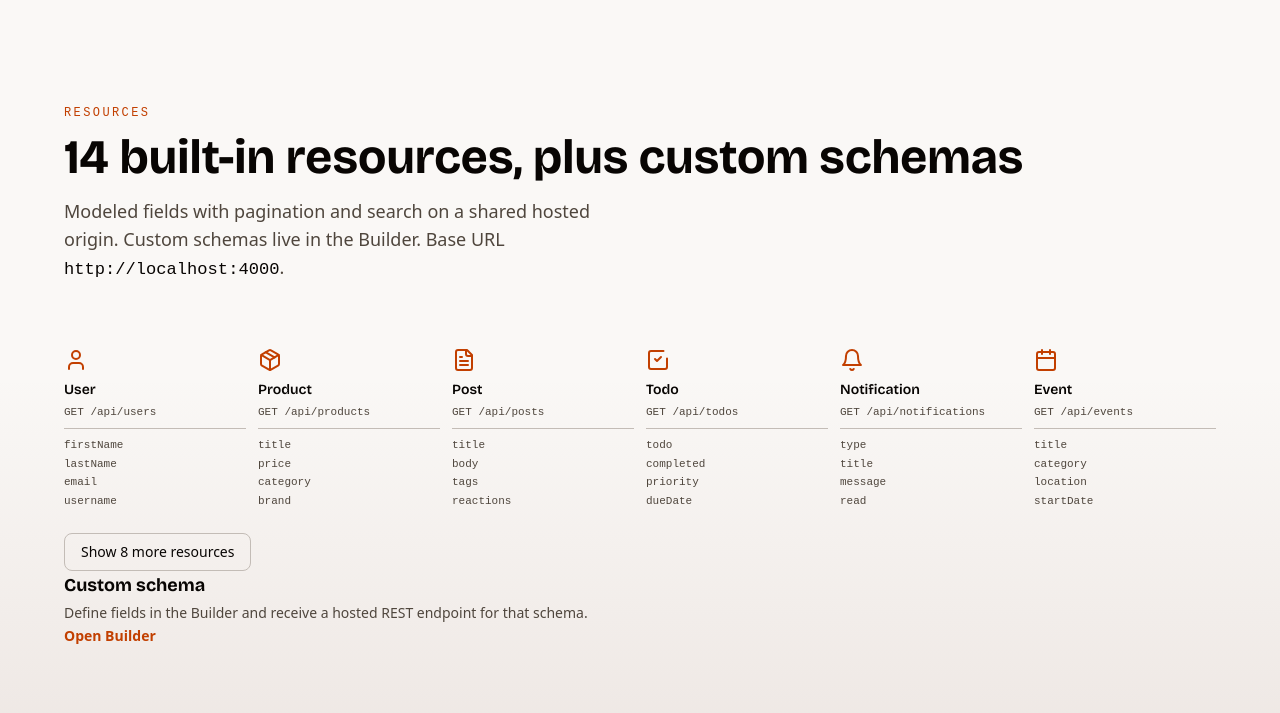
Test case: EntityBrowser › renders all 15 entity cards including Custom
Expected: the heading "14 built-in resources, plus custom schemas" is shown, [64, 128, 1023, 186]
Expected: the text "pagination and search" is shown, [64, 199, 590, 251]
Click the button "Show 8 more resources".
click(158, 552)  # box [64, 533, 252, 571]
(page scrolled)
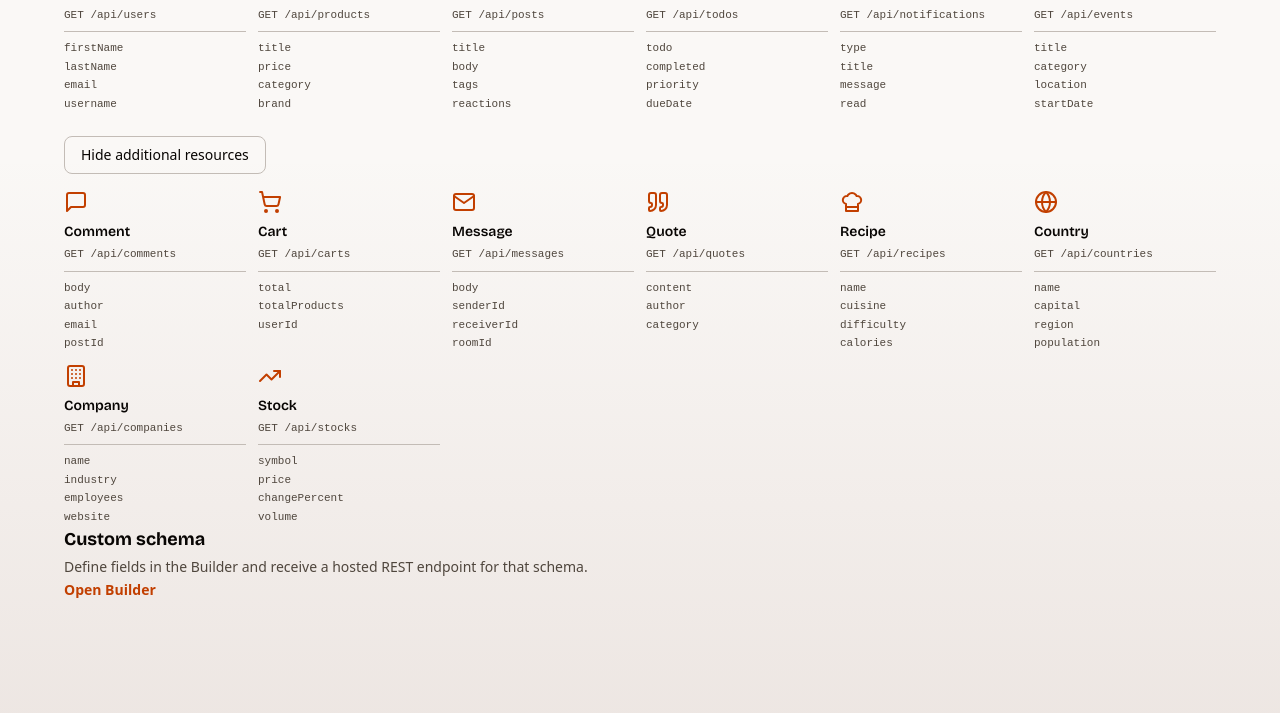
Expected: the heading "Comment" is shown, [64, 223, 130, 240]
Expected: the heading "Cart" is shown, [258, 223, 287, 240]
Expected: the heading "Message" is shown, [452, 223, 513, 240]
